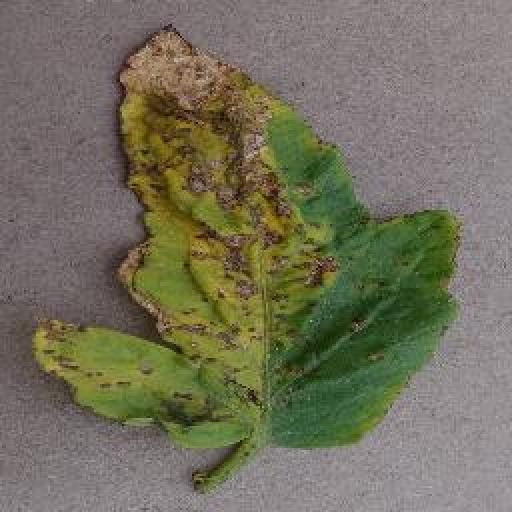Bacterial Spot: (31, 22, 468, 450)
